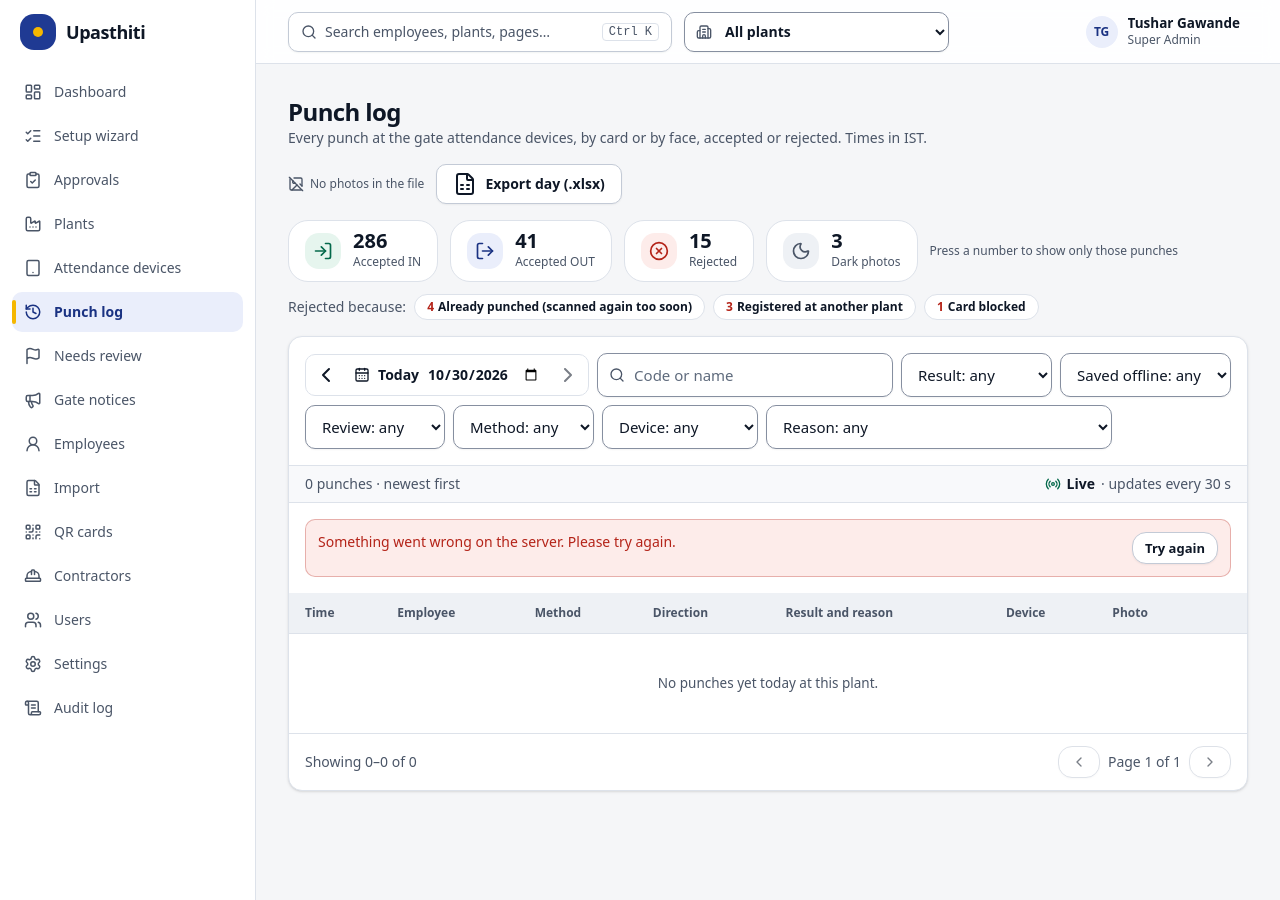
punch log: the list › tells a failed load and lets the person try again
Click the button "Try again". click: point(1175, 548)
box: [1132, 532, 1218, 564]
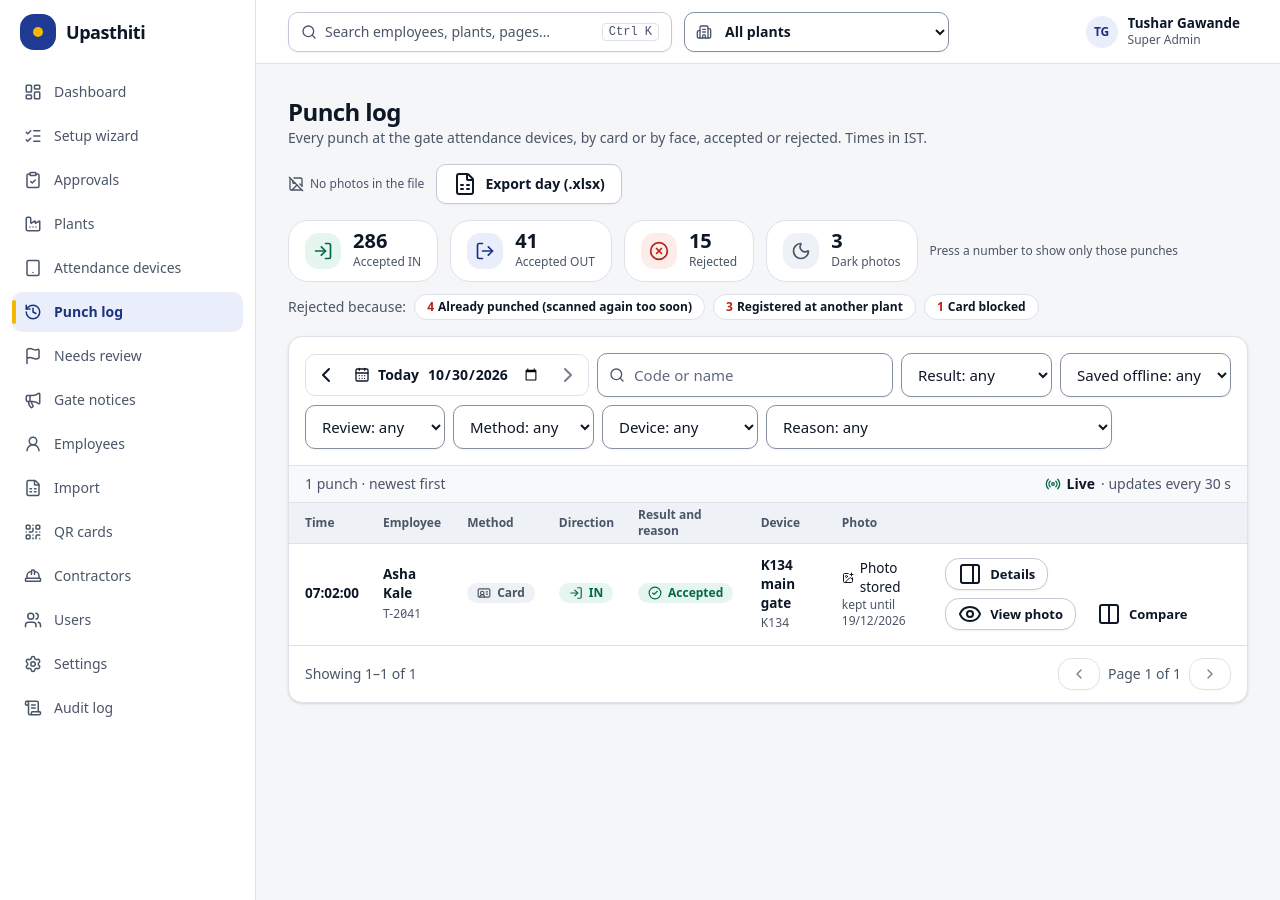
Expected: the text "Asha Kale" is shown, [383, 565, 416, 602]
